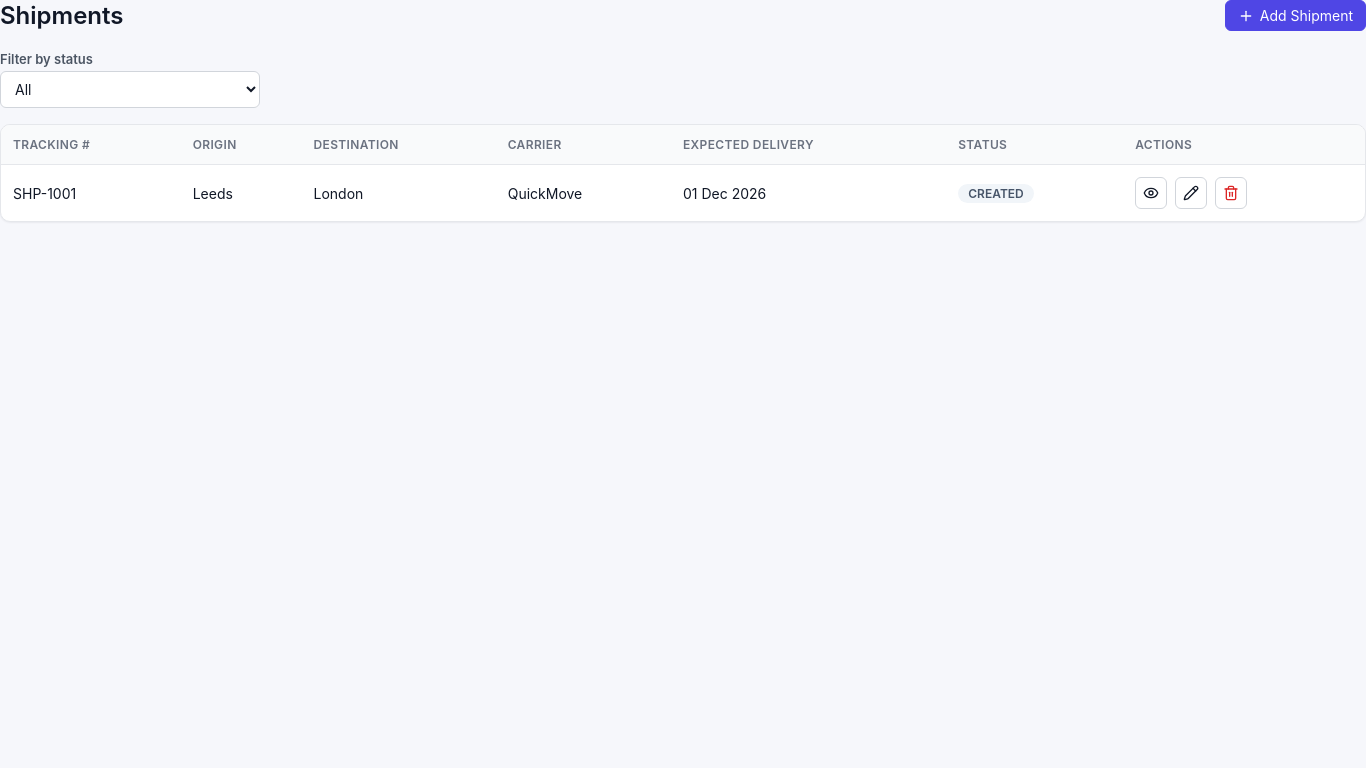
it: ShipmentListPage › asks for confirmation before deleting a shipment
The image size is (1366, 768).
expect the text "SHP-1001" is shown: met, box [1, 164, 181, 221]
Click the button named "delete": (1231, 193) [1215, 177, 1247, 209]
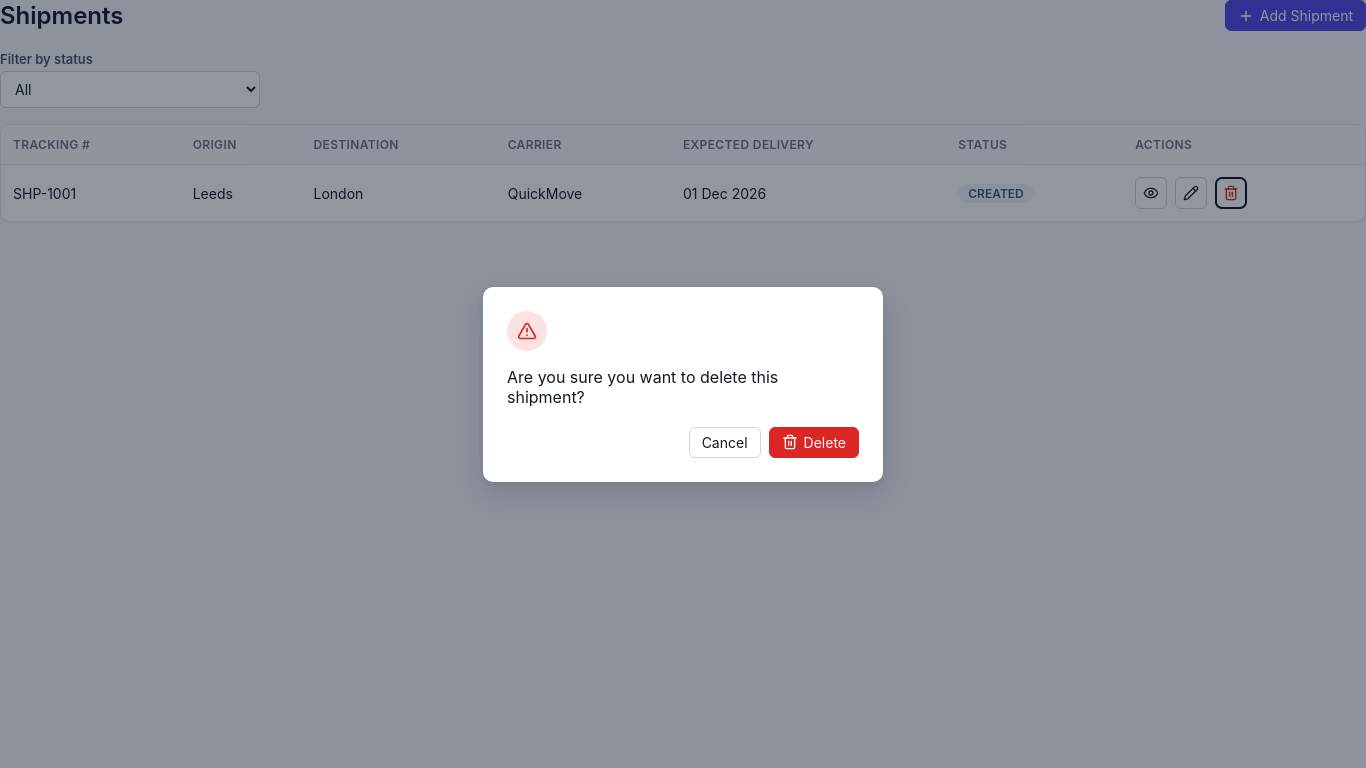
expect the text "Are you sure you want to delete this shipment?" is shown: met, box [507, 366, 778, 406]
